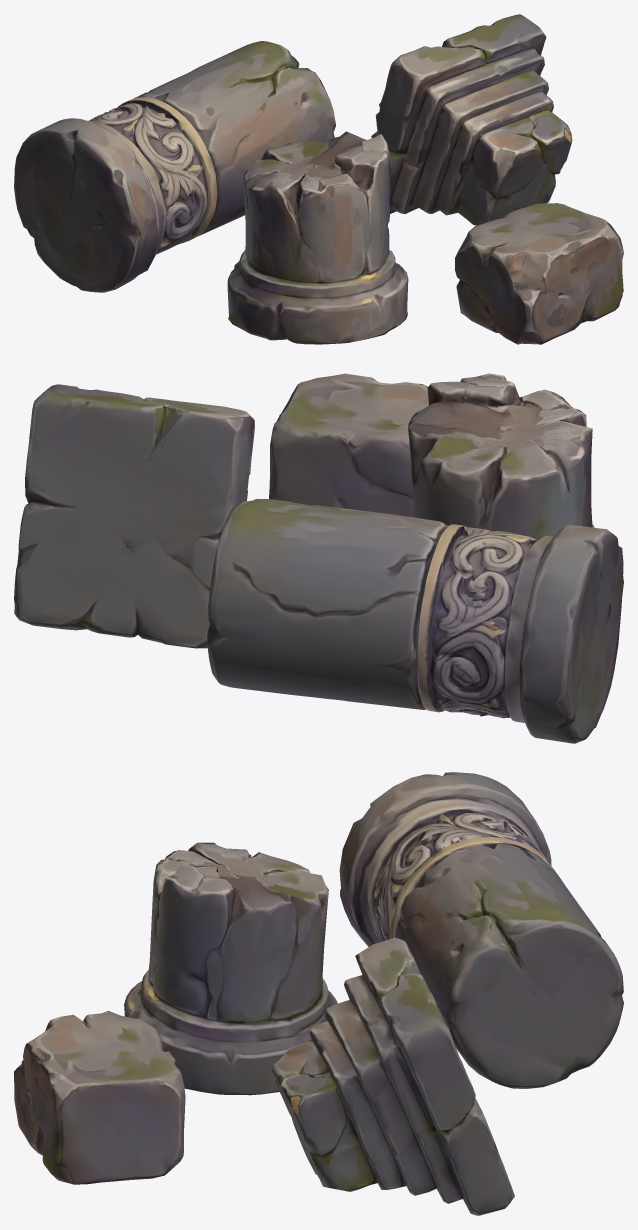
File: pillar-rubble.glb
3 views of the same model, one above another, from view 1: azimuth 30°, elevation 25°; view 2: azimuth 150°, elevation 25°; view 3: azimuth 270°, elevation 25° (orthographic). The views are drawn at different scales.
Visible parts, largest first — view 1: rubble-0, rubble-2, rubble-1, rubble-3; view 2: rubble-0, rubble-1, rubble-2, rubble-3; view 3: rubble-0, rubble-2, rubble-1, rubble-3.
Part boxes in pixels (<box>): rubble-0: <box>14,41,335,292</box>; rubble-2: <box>227,131,408,344</box>; rubble-1: <box>371,14,572,225</box>; rubble-3: <box>455,203,623,344</box>; rubble-0: <box>207,499,623,743</box>; rubble-1: <box>14,384,254,648</box>; rubble-2: <box>408,373,594,539</box>; rubble-3: <box>269,373,428,517</box>; rubble-0: <box>339,772,623,1088</box>; rubble-2: <box>124,842,337,1095</box>; rubble-1: <box>271,938,514,1215</box>; rubble-3: <box>14,1011,185,1184</box>.
Size of the model in its own units: 2.61 by 0.8886 by 2.41.
1 material, 1 textured.
